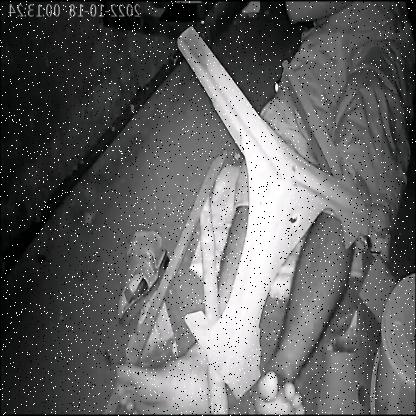leg: (244, 210, 356, 416), (110, 326, 212, 416)
